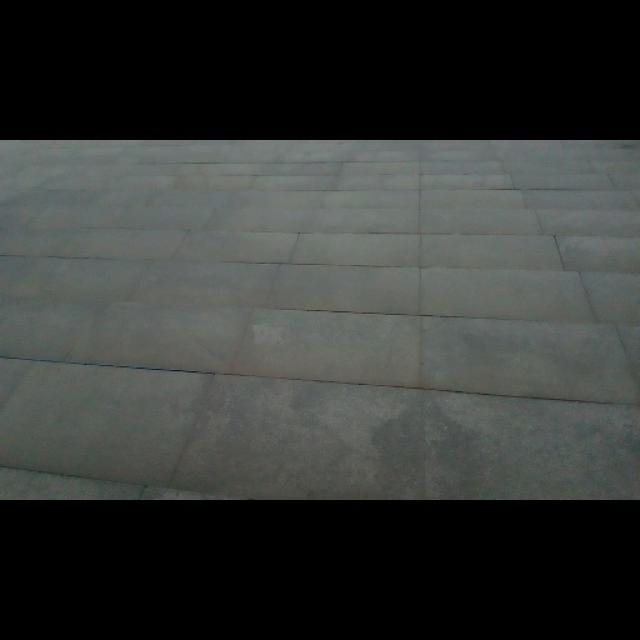stair: (0, 162, 634, 485)
